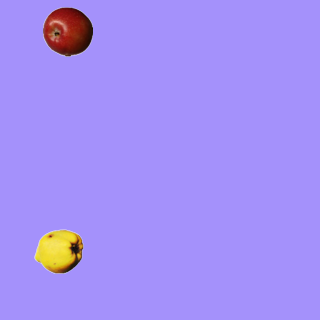Apple Braeburn: (42, 6, 92, 56)
Quince: (33, 226, 83, 276)
